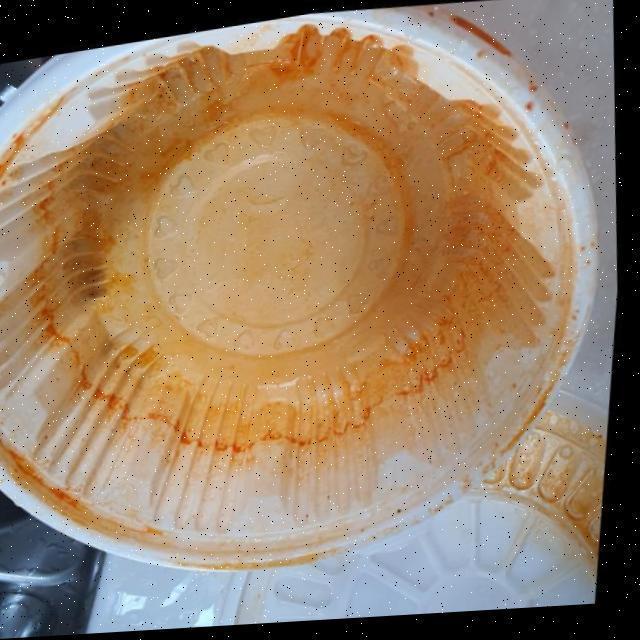disposable: (0, 0, 604, 583)
